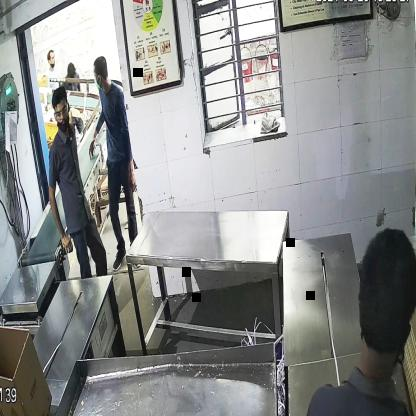goggles: (51, 102, 72, 124)
